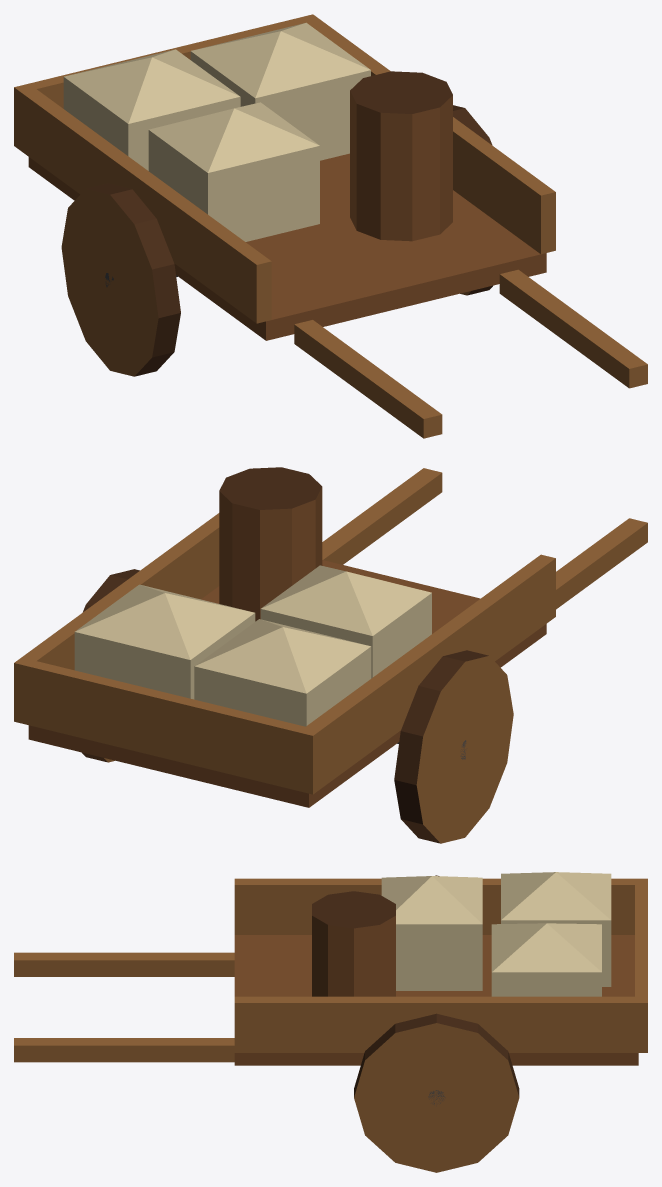
The model's file is camp_cart.glb.
The picture shows the model from 3 angles, top to bottom: view 1: azimuth 30°, elevation 25°; view 2: azimuth 150°, elevation 25°; view 3: azimuth 270°, elevation 25°; orthographic projection. The views are drawn at different scales.
Parts seen in each view (by area): view 1: camp_cart; view 2: camp_cart; view 3: camp_cart.
Part boxes in pixels (box(x1,y1,x2,y2)): camp_cart: box(14, 14, 647, 438); camp_cart: box(14, 467, 647, 843); camp_cart: box(14, 872, 647, 1172).
Bounding box in the file's own units: 1.9 × 1.3 × 3.45.
1 material, 1 textured.
